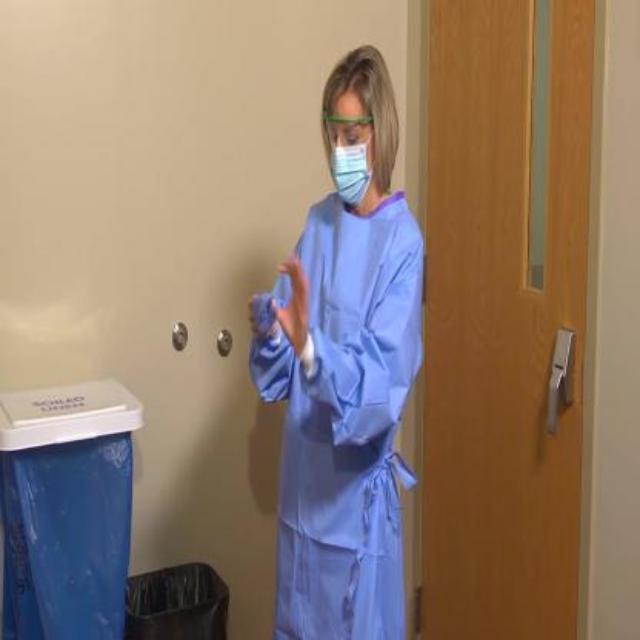bare_hand: (265, 253, 333, 357)
